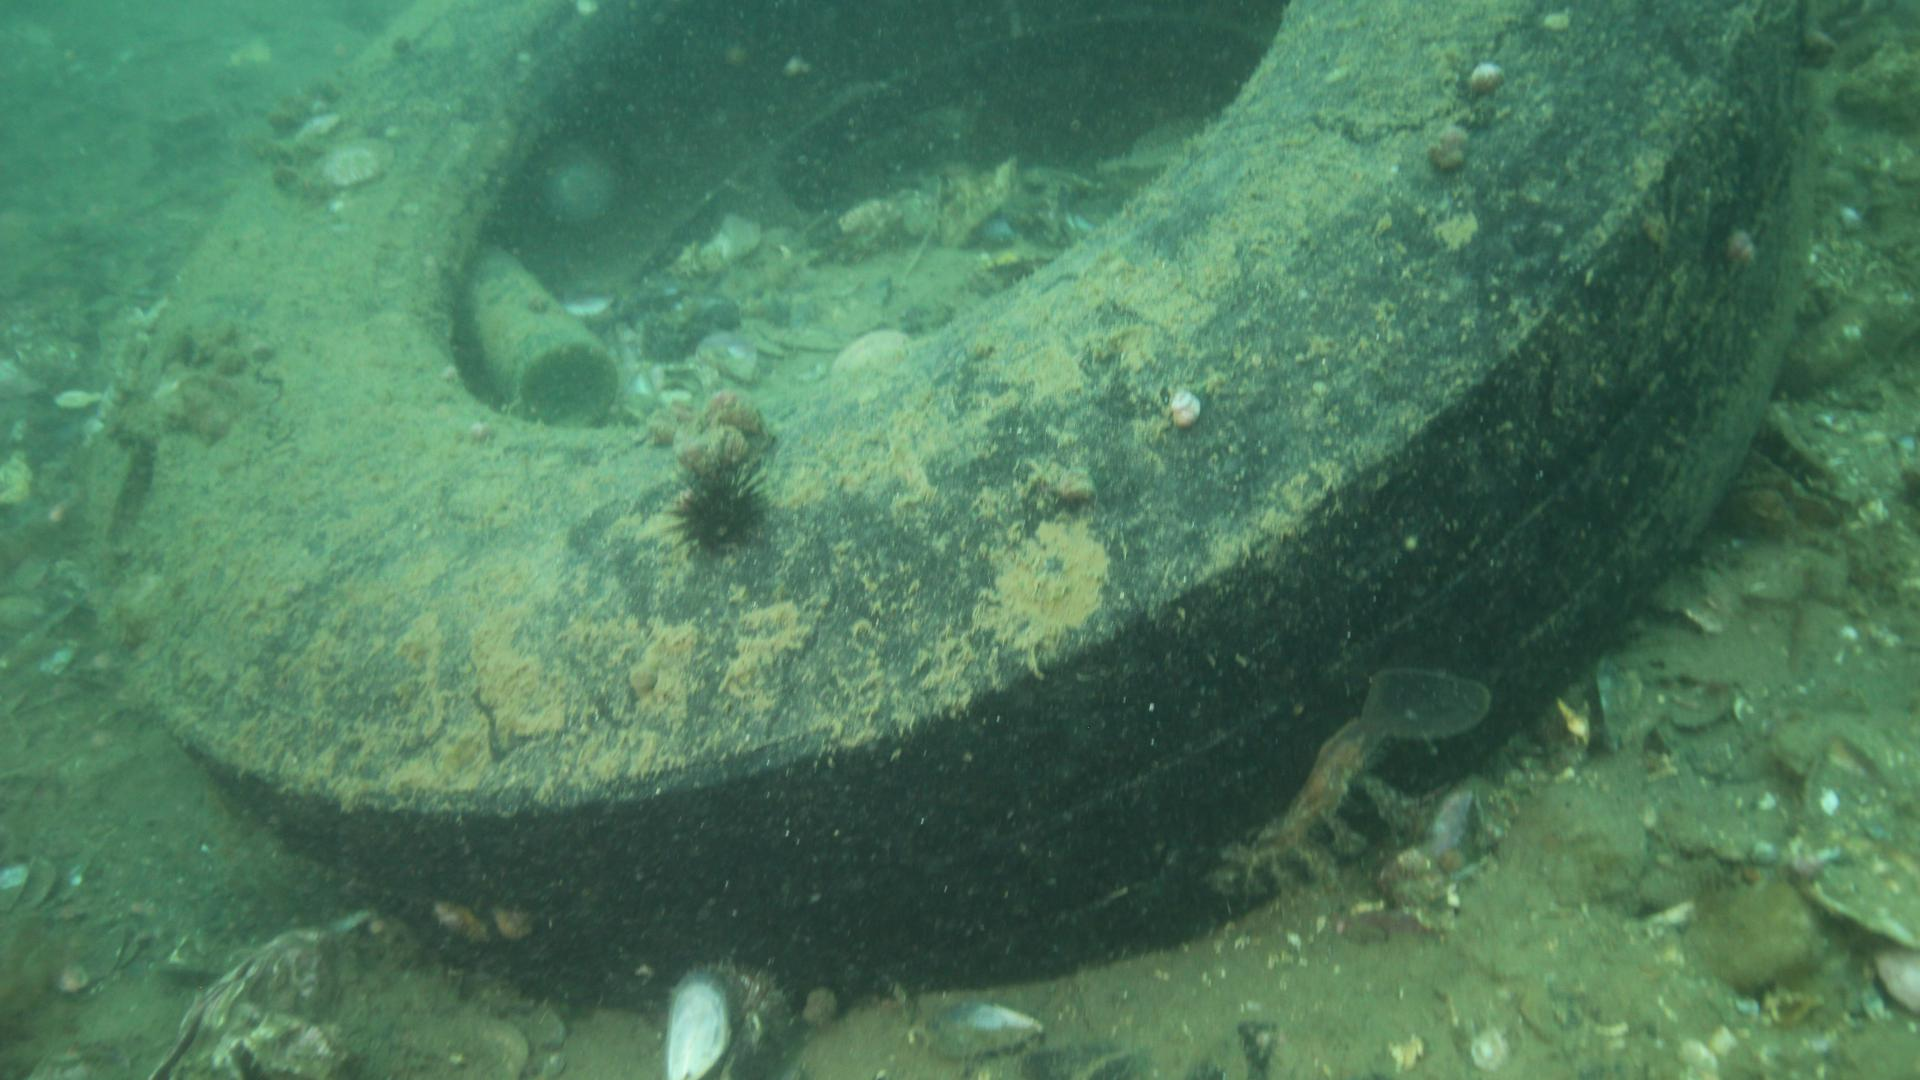tire: (86, 0, 1829, 1015)
